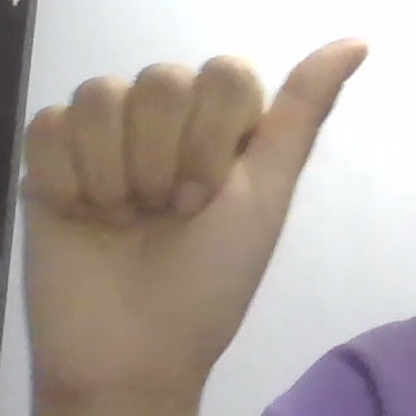A: (22, 40, 367, 387)
